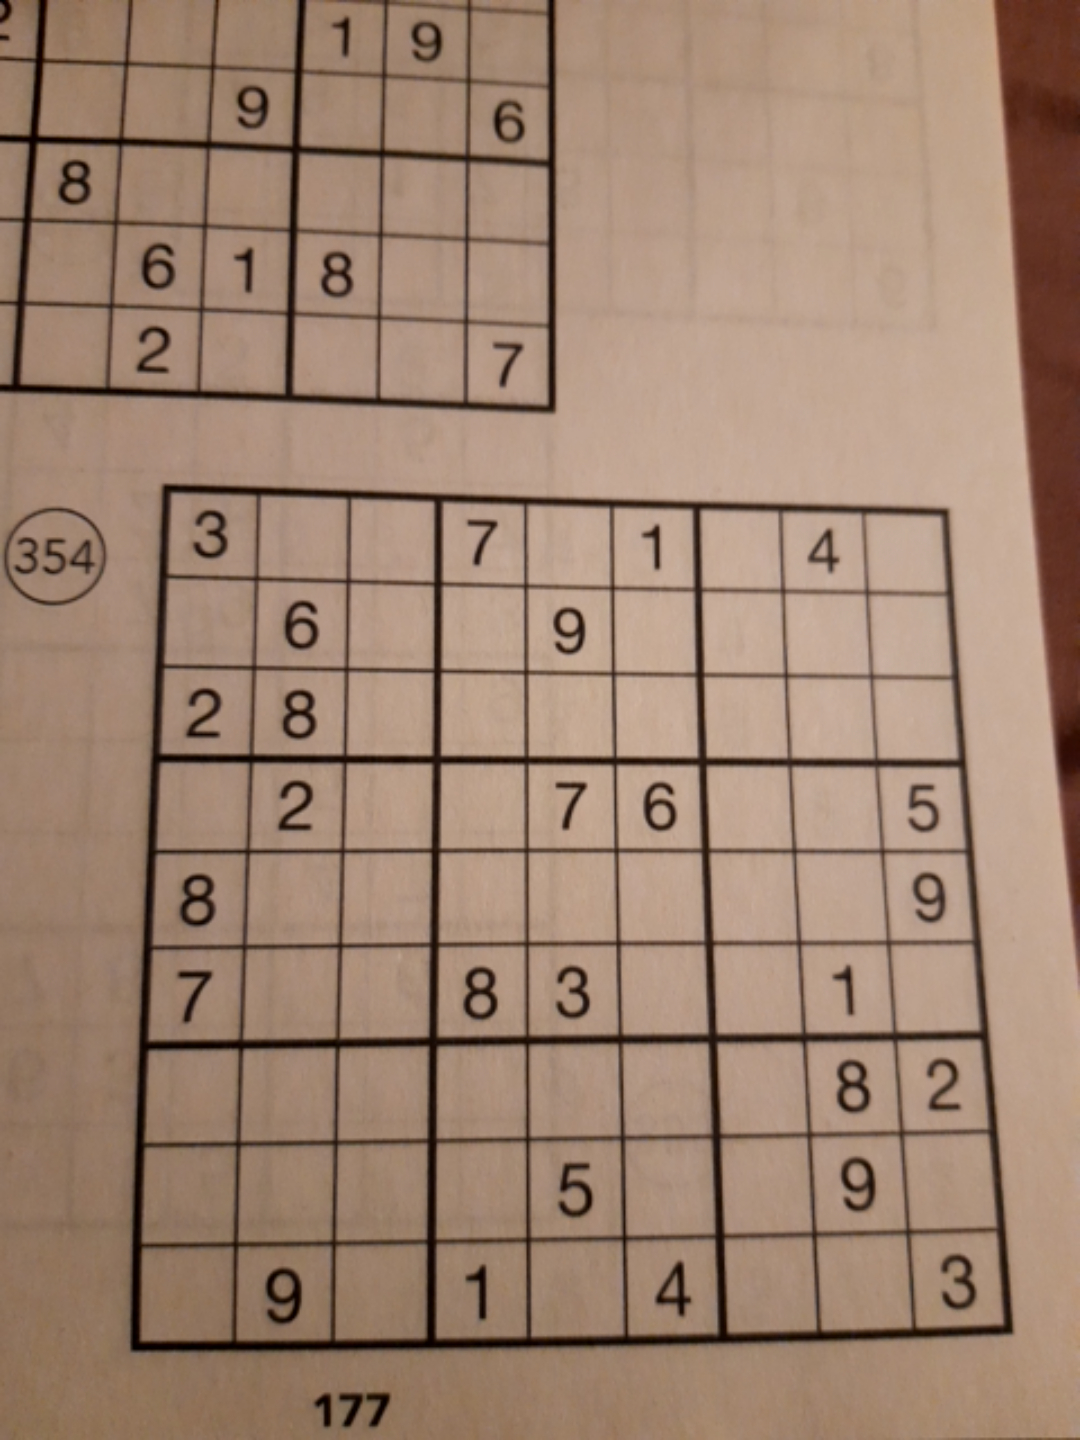sudoku: (121, 484, 1014, 1345)
